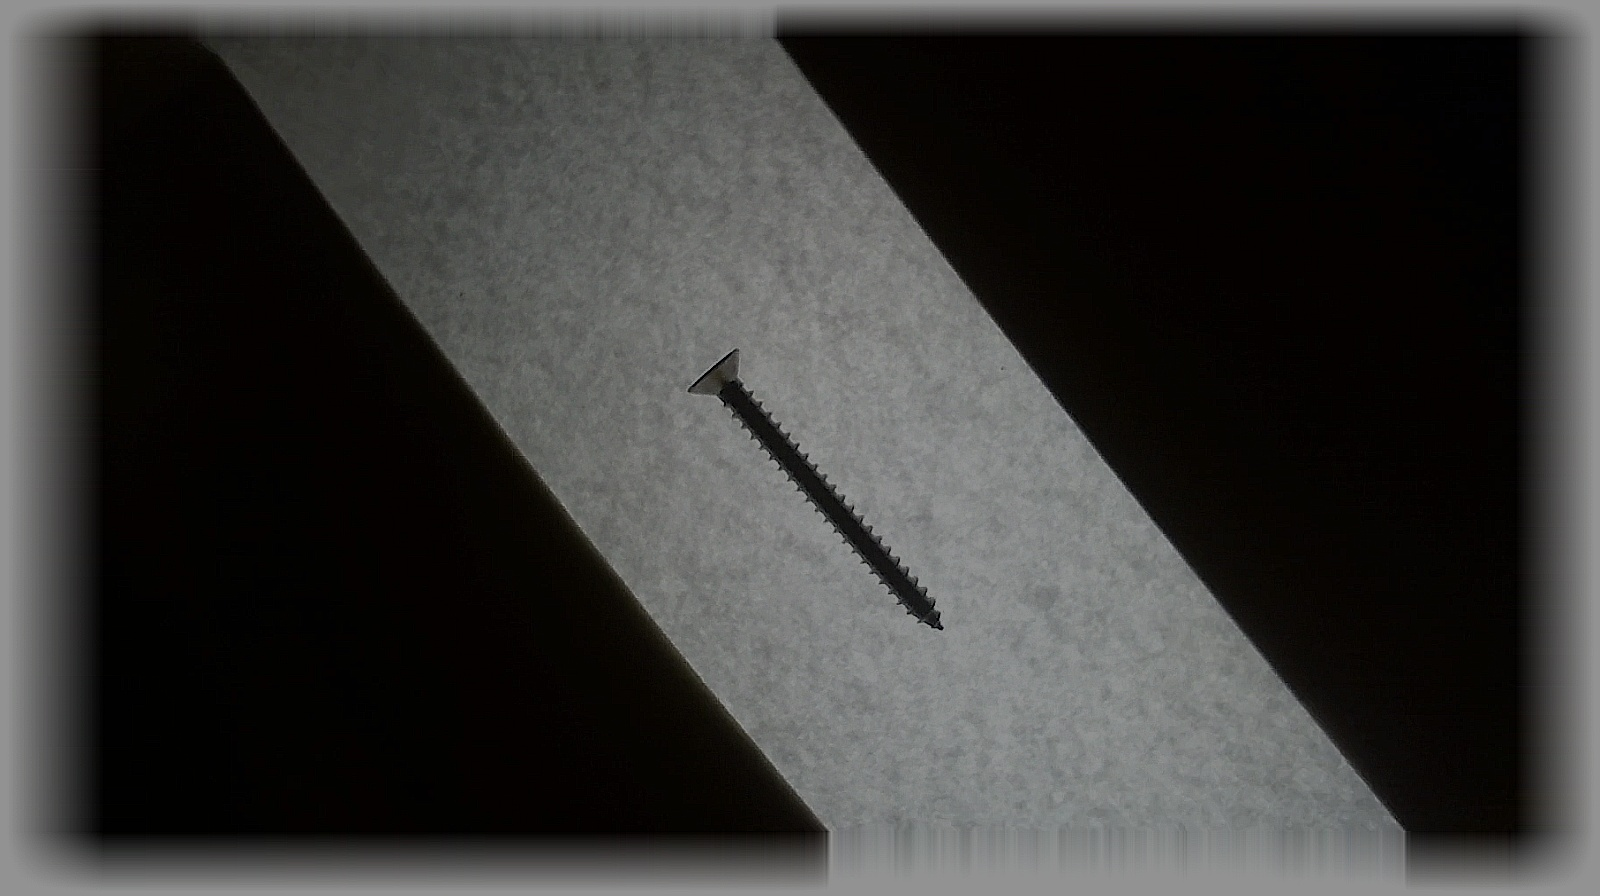S002: (680, 339, 958, 638)
